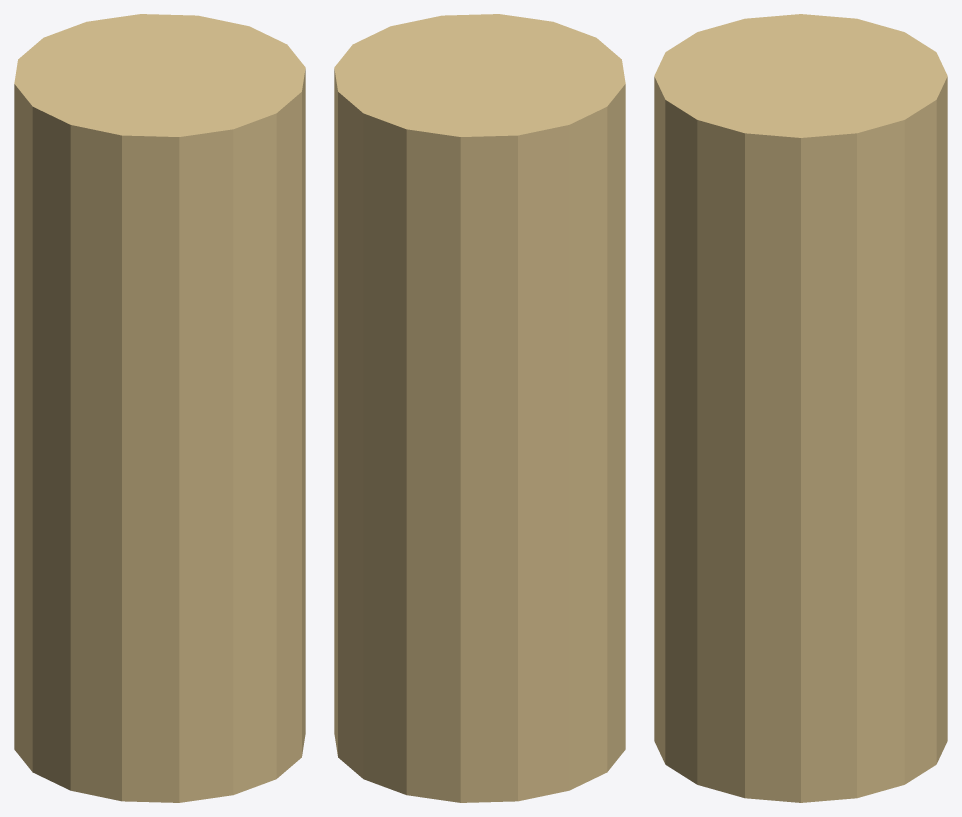
Rendered from vela.obj.
3 views of the same model, side by side, from view 1: azimuth 30°, elevation 25°; view 2: azimuth 150°, elevation 25°; view 3: azimuth 270°, elevation 25° (orthographic).
Visible parts, largest first — view 1: vela; view 2: vela; view 3: vela.
Part boxes in pixels (<box>): vela: <box>14,14,305,802</box>; vela: <box>334,14,625,802</box>; vela: <box>654,14,947,802</box>.
Size of the model in its own units: 0.06 by 0.15 by 0.06.
Materials: 1 (1 with a texture image).
